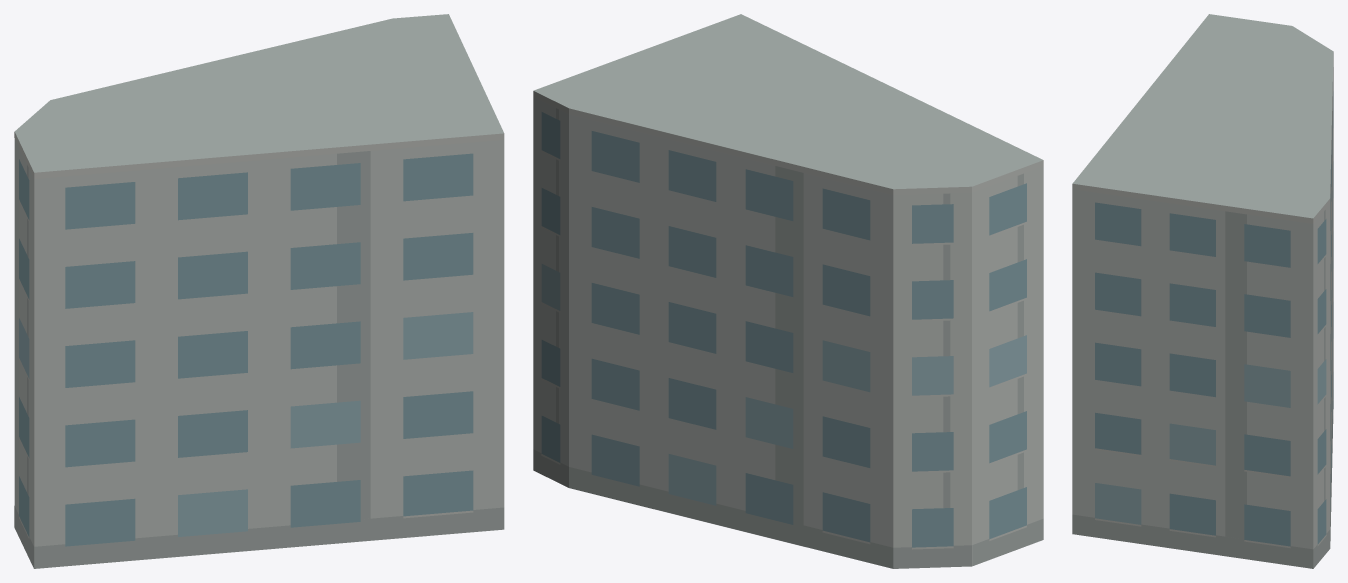
File: survey-upis-32827554.glb
3 views of the same model, side by side, from view 1: azimuth 30°, elevation 25°; view 2: azimuth 150°, elevation 25°; view 3: azimuth 270°, elevation 25° (orthographic). The views are drawn at different scales.
Parts seen in each view (by area): view 1: survey-upis-32827554.tmp; view 2: survey-upis-32827554.tmp; view 3: survey-upis-32827554.tmp.
Boxes of the visible parts, x1,y1,x2,y2 form: survey-upis-32827554.tmp: (14, 14, 504, 568); survey-upis-32827554.tmp: (533, 14, 1043, 568); survey-upis-32827554.tmp: (1072, 14, 1333, 568).
Size of the model in its own units: 19.09 by 15.25 by 10.31.
